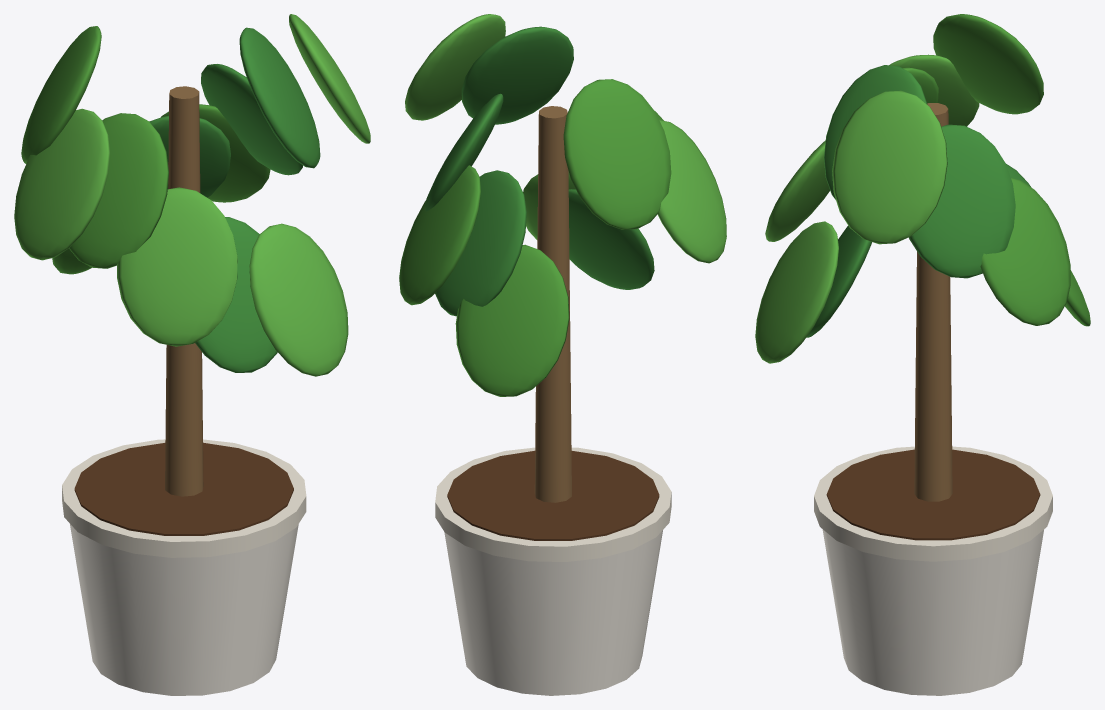
Rendered from kplant-fig.glb.
3 views of the same model, side by side, from view 1: azimuth 30°, elevation 25°; view 2: azimuth 150°, elevation 25°; view 3: azimuth 270°, elevation 25° (orthographic). The views are drawn at different scales.
Size of the model in its own units: 0.8514 by 1.58 by 0.7859.
